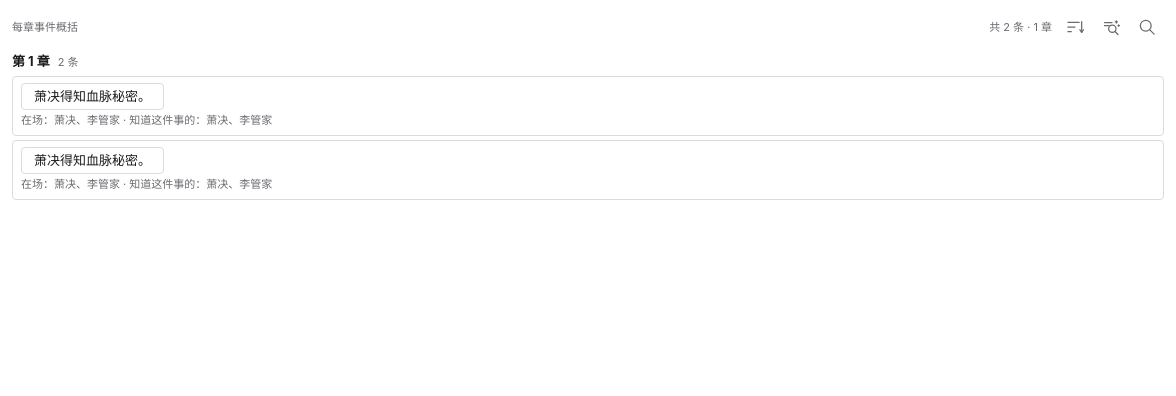
已确认的情节：谁在场、谁知道了 › 什么都没动的时候保存不了 —— 那一次编辑后端会判空，日志里也不该多一条
What coordinates should you click on to do the following:
click the 1st button "萧决得知血脉秘密。"
I would click on:
 (92, 96)
Its box is left=21, top=82, right=164, bottom=110.
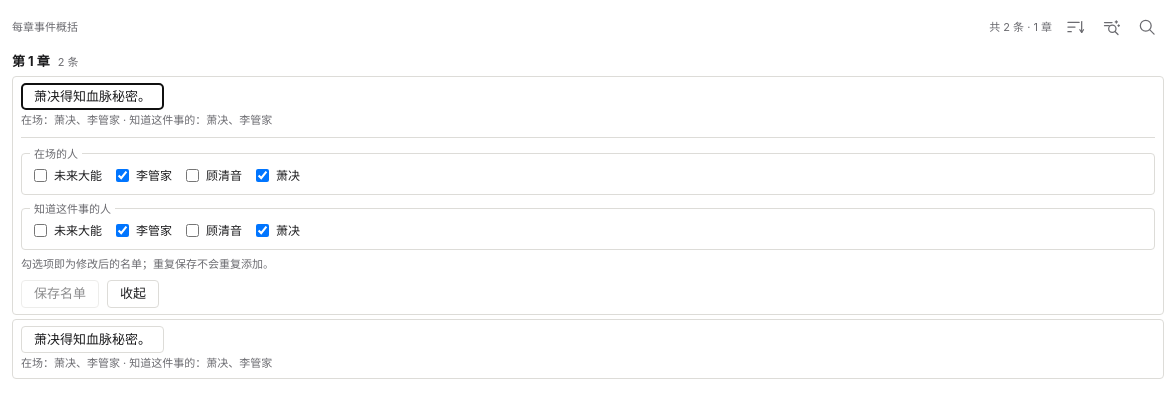
Now the button "保存名单" is disabled, box left=21, top=280, right=99, bottom=308
What coordinates should you click on to do the following:
click the checkbox labelled "李管家" below "知道这件事的人"
I would click on:
 (122, 230)
Its box is left=116, top=224, right=129, bottom=237.
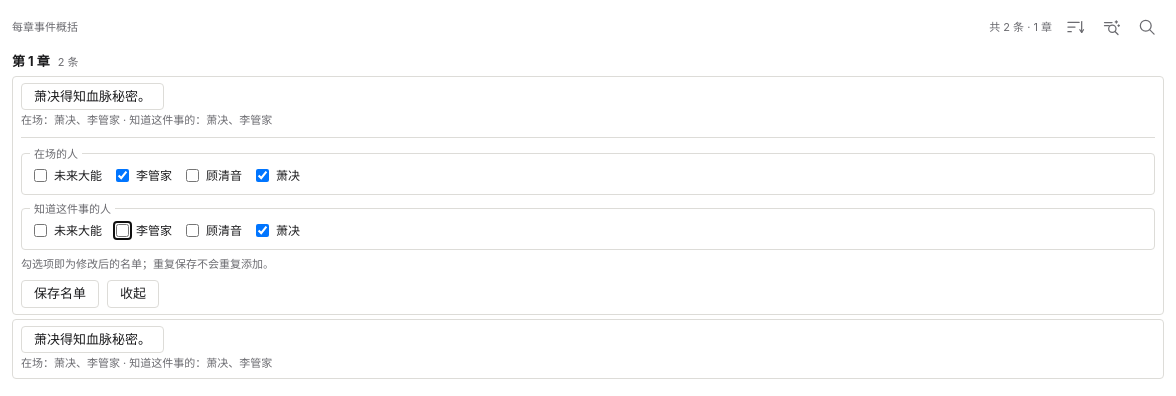
Now the button "保存名单" is enabled, box left=21, top=280, right=99, bottom=308
